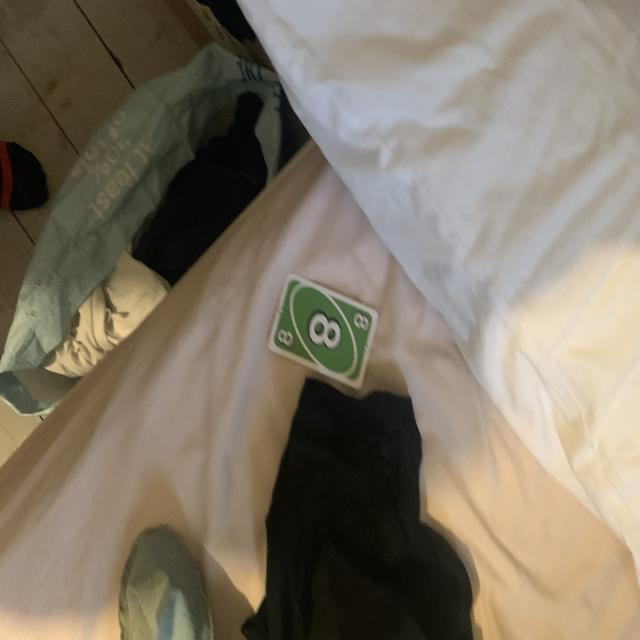lgreen-8: (352, 308, 372, 335)
